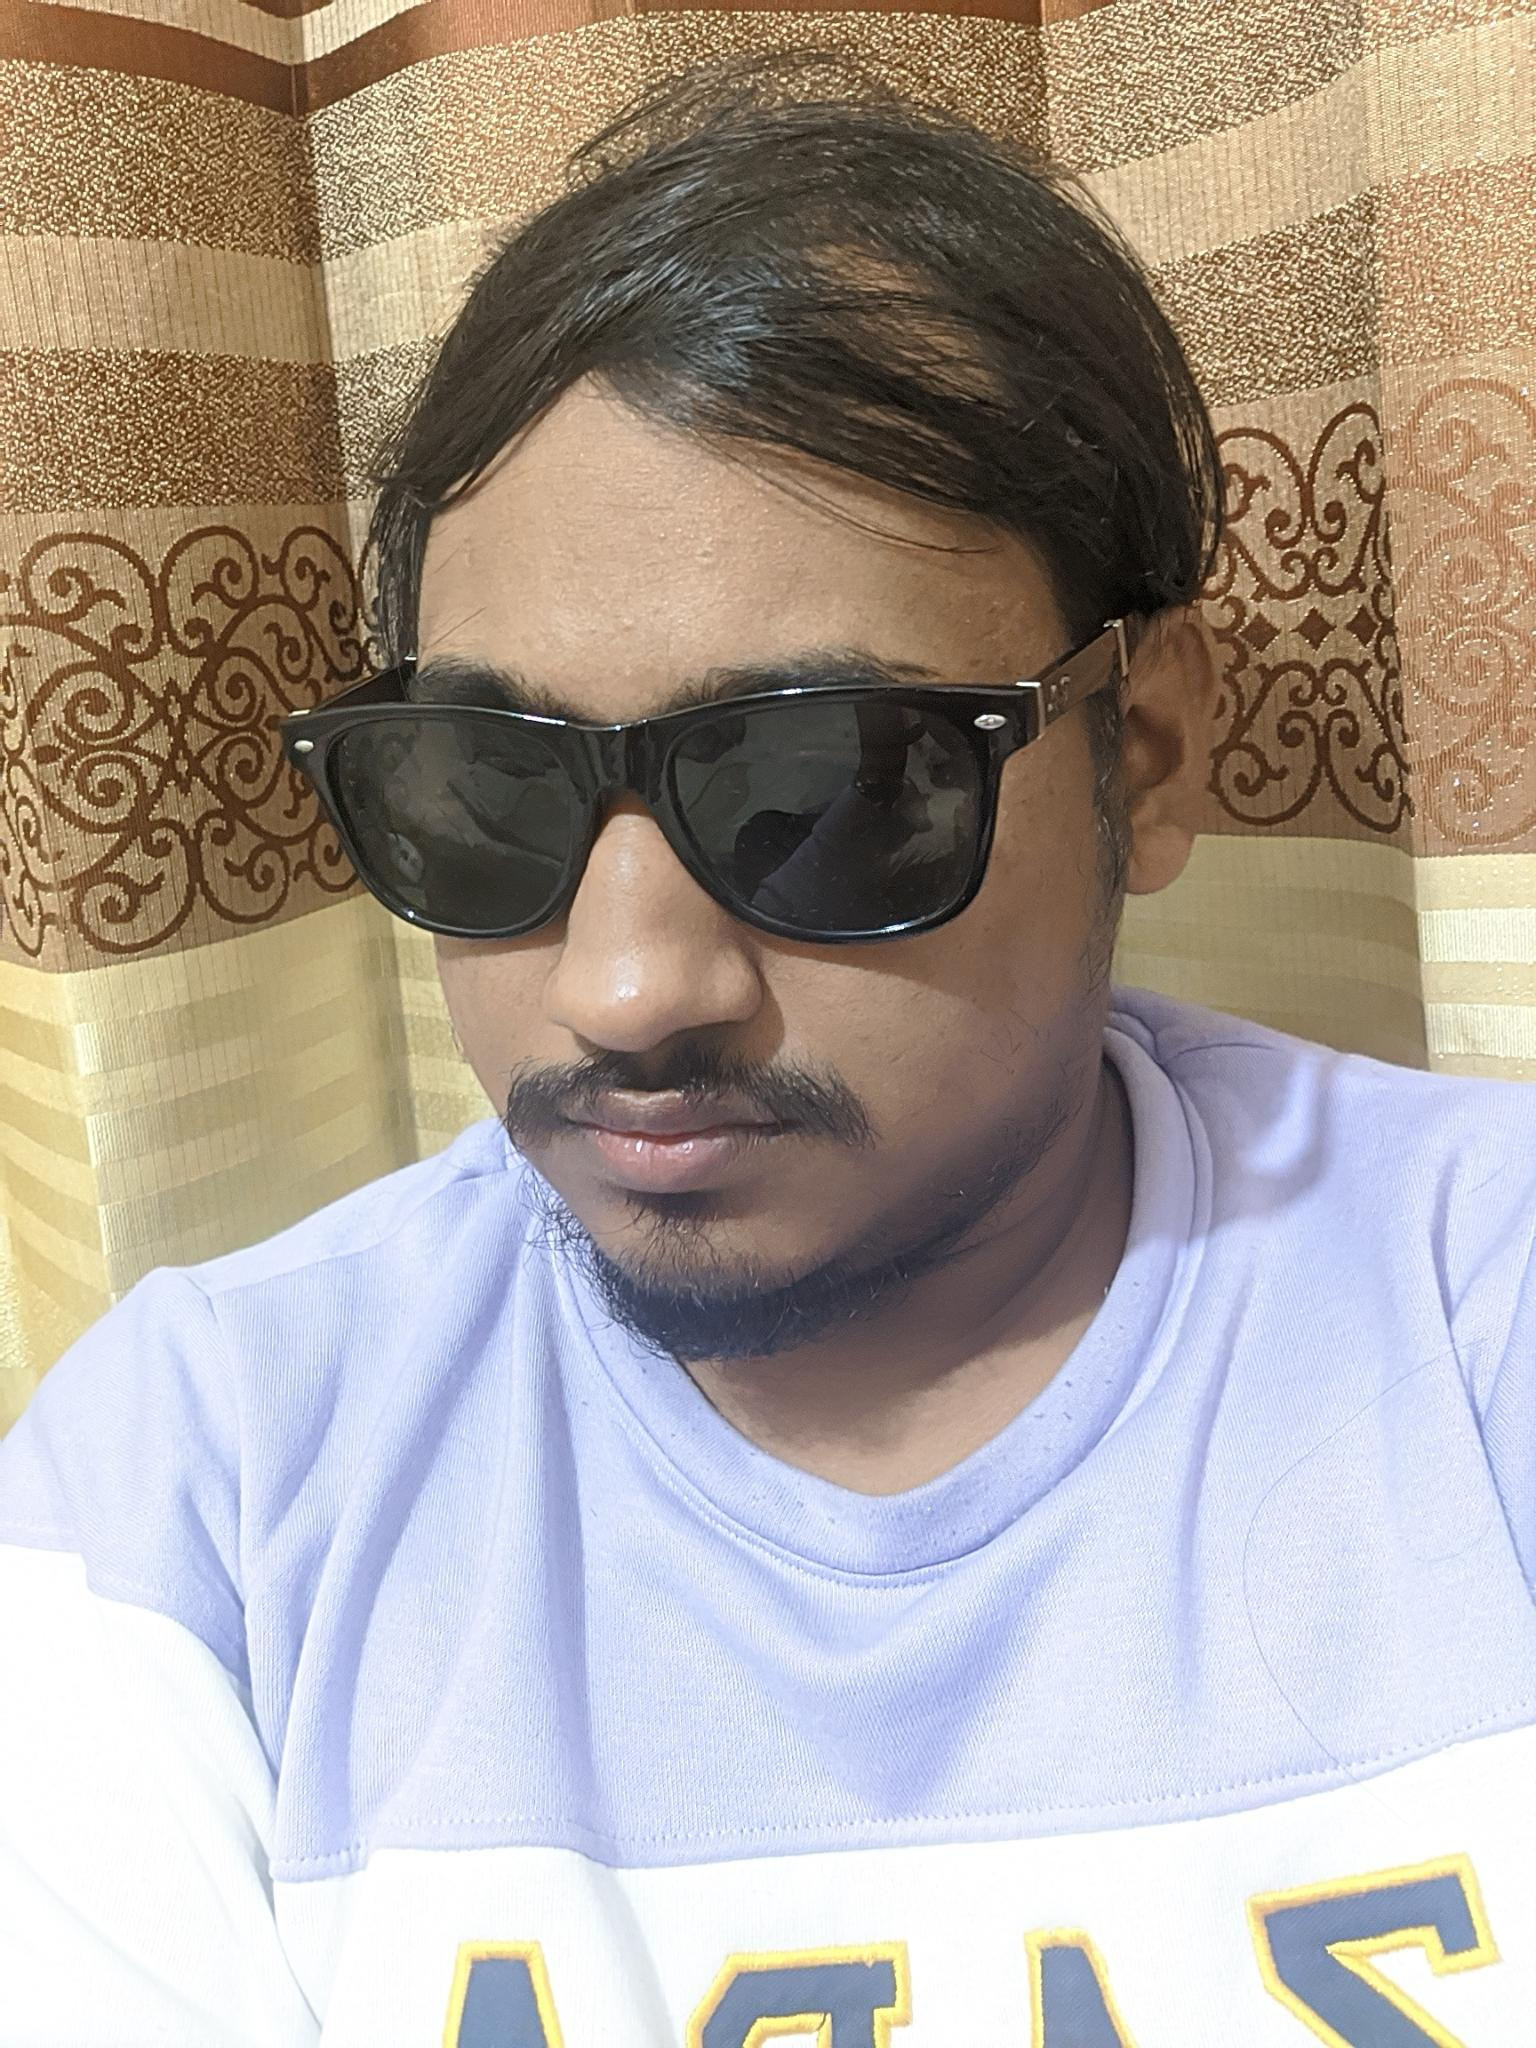Neutral: (326, 539, 1108, 1343)
